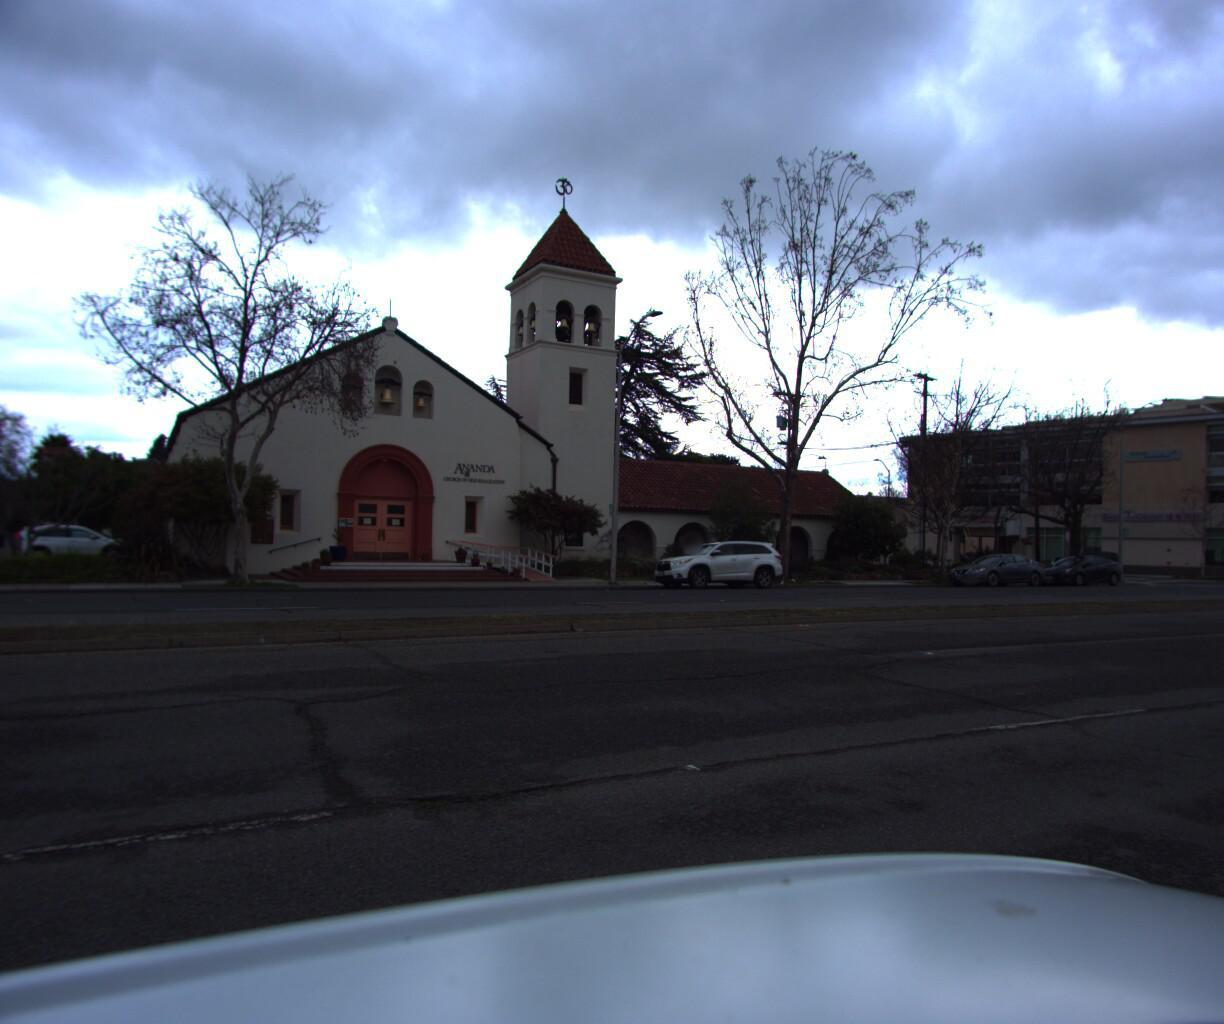car: (640, 532, 793, 587), (933, 545, 1049, 587), (1027, 549, 1124, 584)
